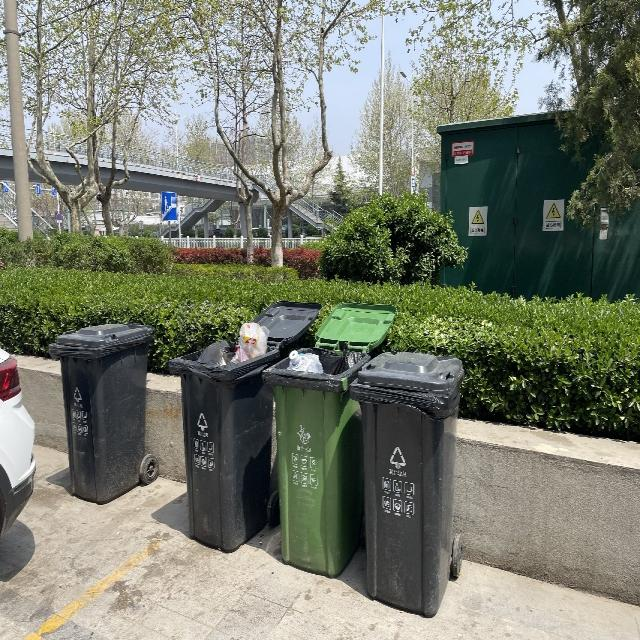garbage_bin: (350, 351, 463, 618), (48, 322, 154, 505)
overflow: (170, 322, 282, 551), (262, 345, 368, 575)
